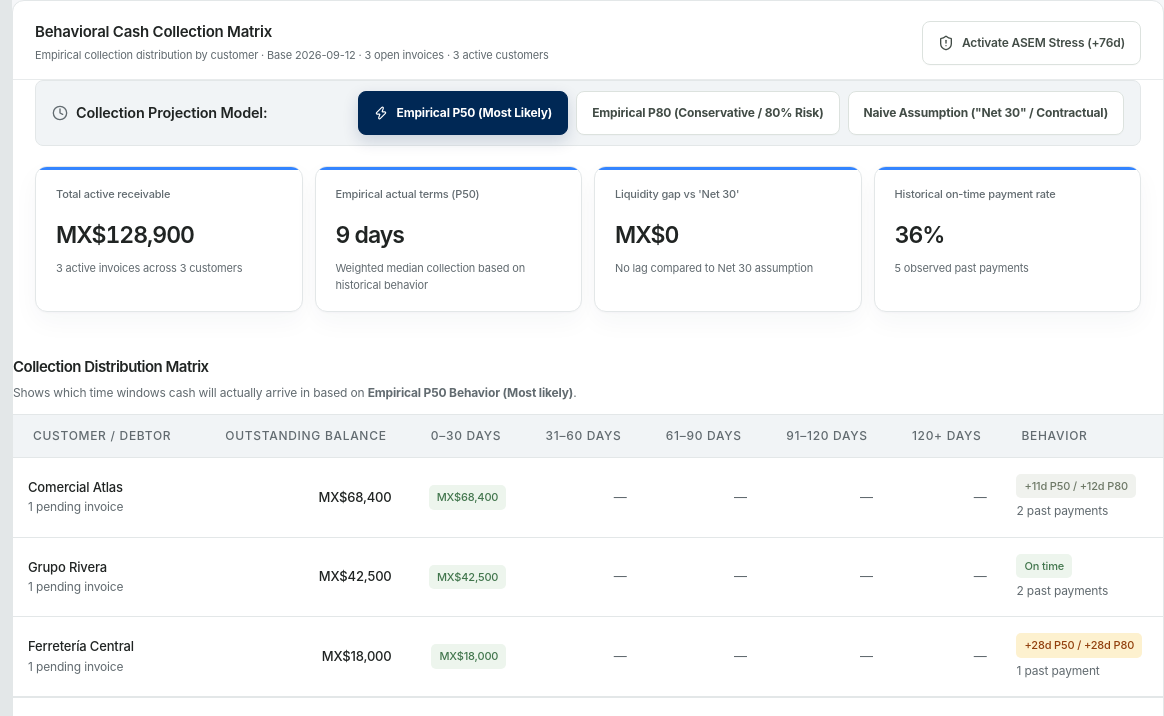
Test: BehavioralCollectionMatrix component › switches between P50, P80 and Naive perspectives
The width and height of the screenshot is (1164, 716).
Click the button "Empirical P80 (Conservative / 80% Risk)" at (708, 113), box 576,91 -> 840,135
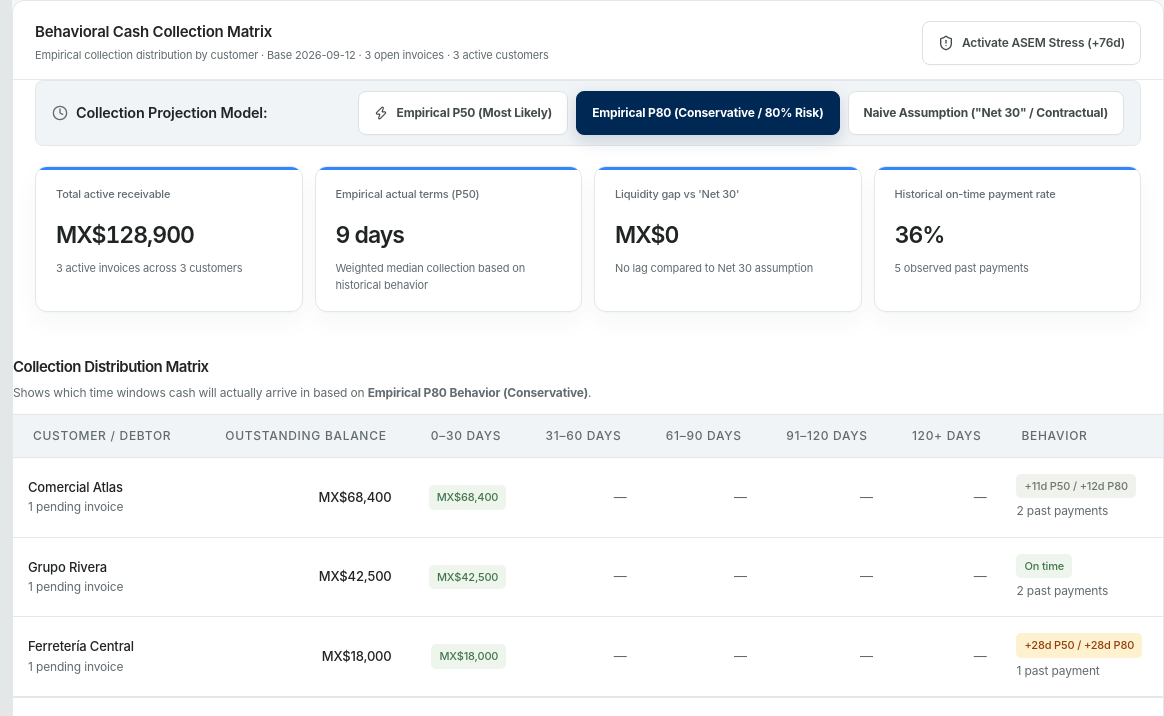
Expected: the text "Empirical P80 Behavior (Conservative)" is shown, 368,385 -> 588,400
Click the button "Naive Assumption (\"Net 30\" / Contractual)" at (986, 113), box 848,91 -> 1124,135
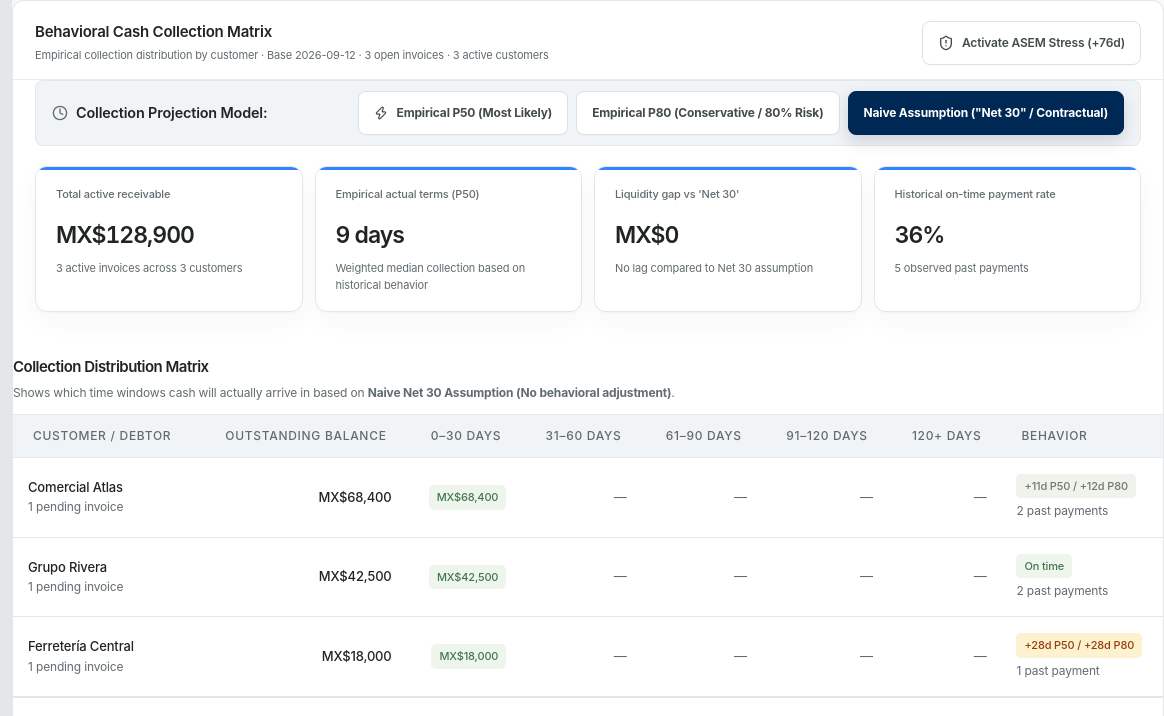
Expected: the text "Naive Net 30 Assumption (No behavioral adjustment)" is shown, 368,385 -> 671,400
